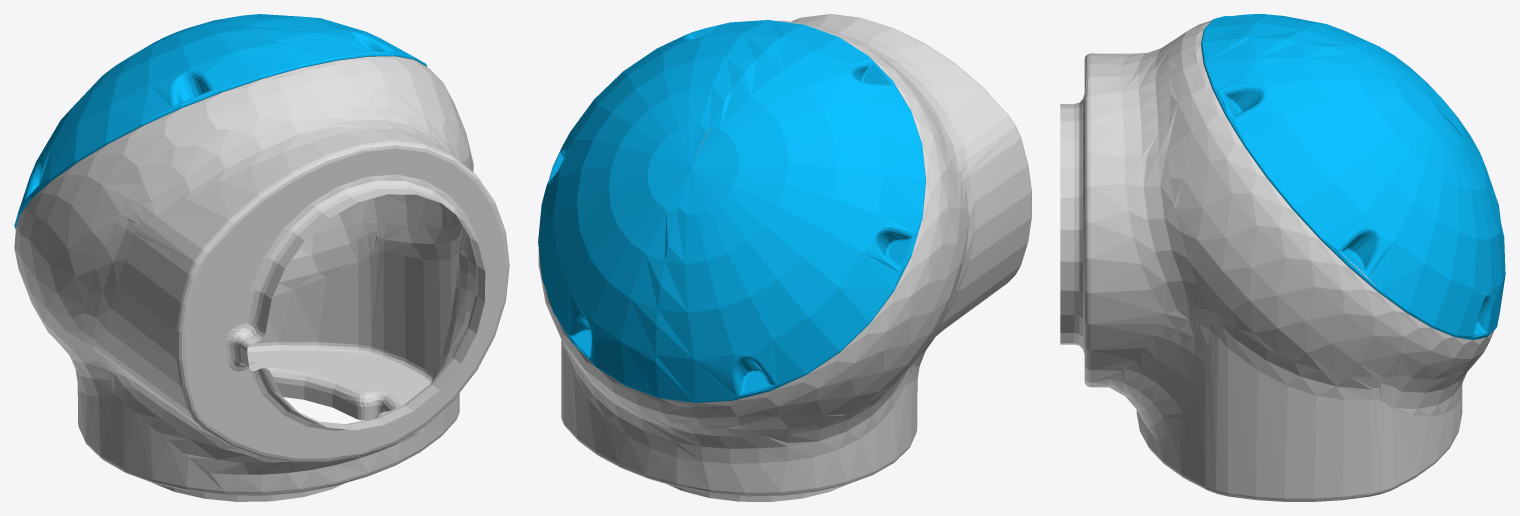
3 views of the same model, side by side, from view 1: azimuth 30°, elevation 25°; view 2: azimuth 150°, elevation 25°; view 3: azimuth 270°, elevation 25° (orthographic). The views are drawn at different scales.
Visible parts, largest first — view 1: 部品2, HC10.001; view 2: HC10.001, 部品2; view 3: 部品2, HC10.001.
Part boxes in pixels (bbox=[...]): 部品2: bbox=[14, 56, 509, 501]; HC10.001: bbox=[14, 14, 427, 229]; HC10.001: bbox=[538, 20, 925, 402]; 部品2: bbox=[538, 14, 1031, 501]; 部品2: bbox=[1060, 20, 1494, 501]; HC10.001: bbox=[1201, 14, 1505, 339].
Size of the model in its own units: 21.99 by 22.16 by 22.16.
